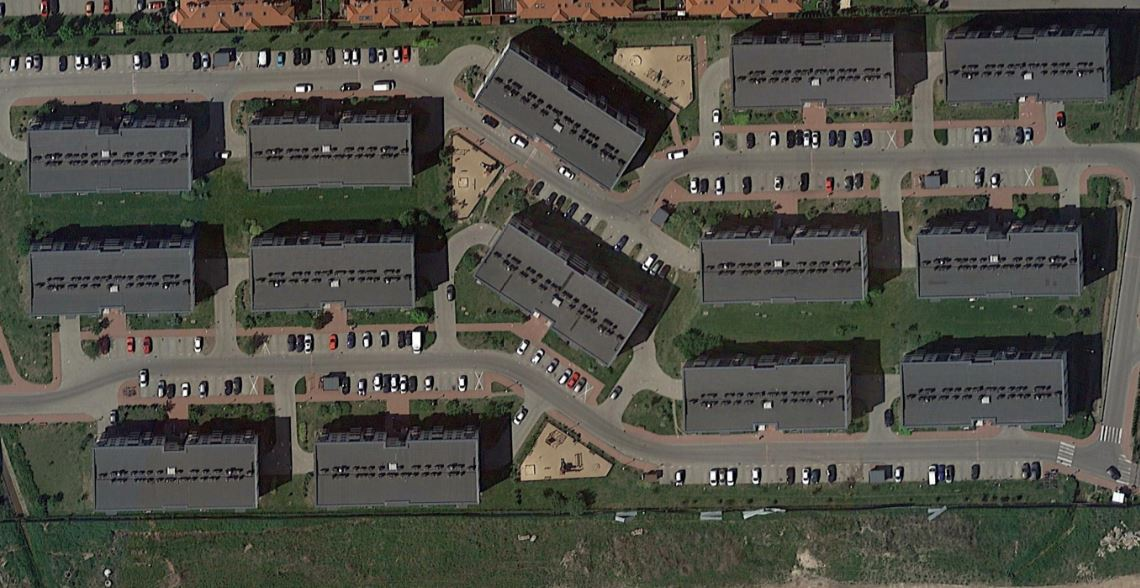block of flats: (463, 27, 648, 195), (467, 217, 650, 371), (16, 109, 199, 196), (237, 106, 420, 193), (240, 227, 423, 314), (16, 232, 199, 319), (84, 428, 267, 515), (305, 421, 488, 508), (674, 350, 857, 437), (895, 343, 1078, 430), (909, 217, 1092, 304), (935, 19, 1118, 106), (721, 25, 904, 112), (694, 216, 877, 303)
